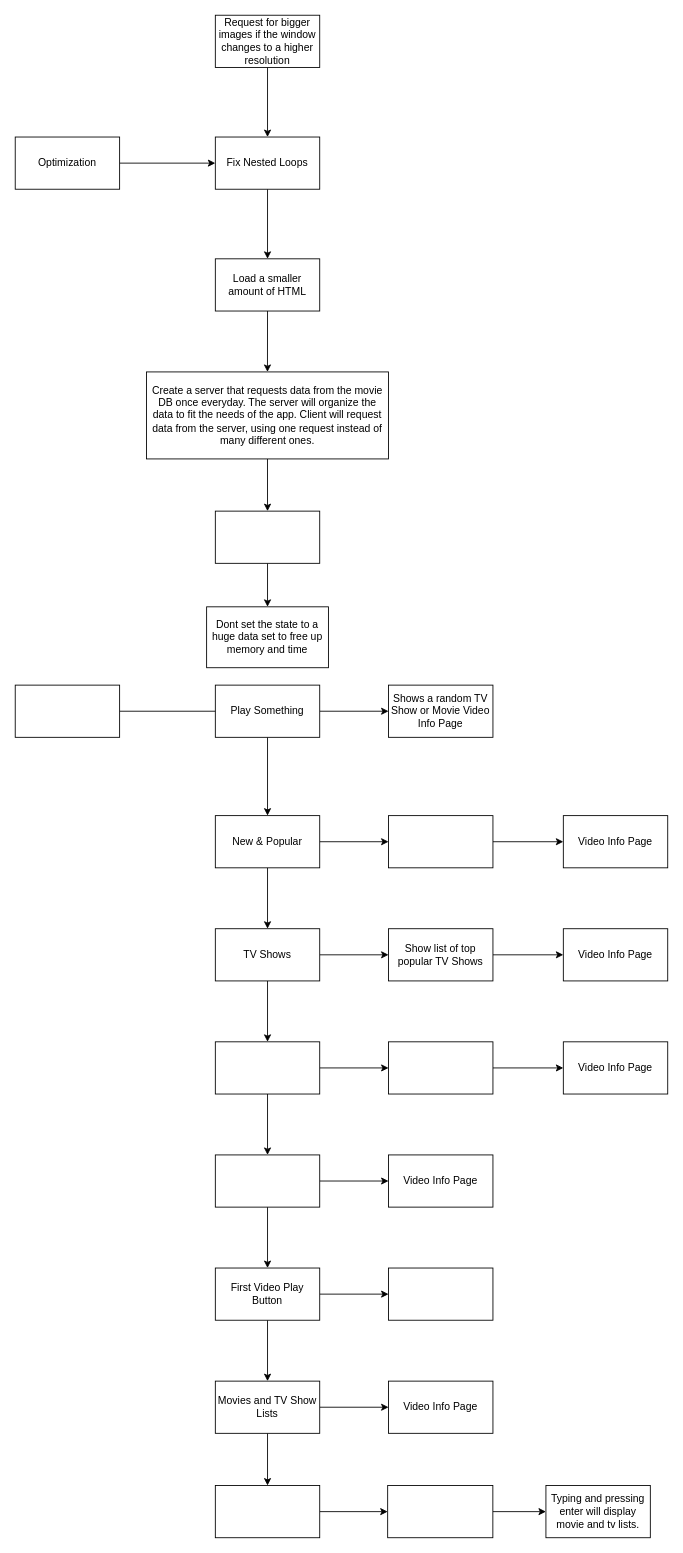
Image size: 683x1553. Some labels were removed from this diagram. Each missing label, with the centre of its shape:
"Display HTML while requesting data" goes at point (267, 536).
"First Video Info Button" goes at point (267, 1180).
"Home" goes at point (67, 710).
"Link to purchase movie" goes at point (440, 1293).
"Movies" goes at point (267, 1067).
"Search Button" goes at point (267, 1511).
"Search Page" goes at point (440, 1511).
"Show list of new and popular movies and TV Shows" goes at point (440, 841).
"Show list of top popular movies" goes at point (440, 1067).
